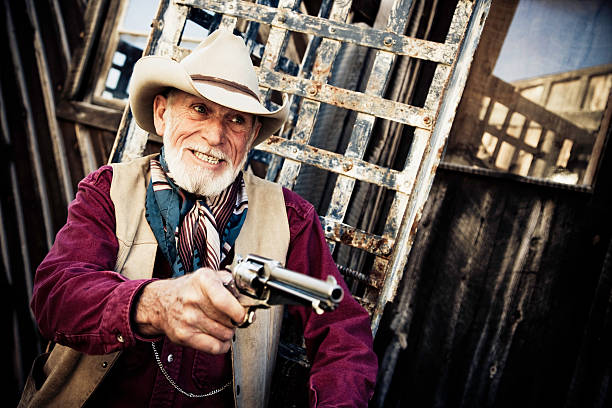gun: (231, 252, 345, 329)
